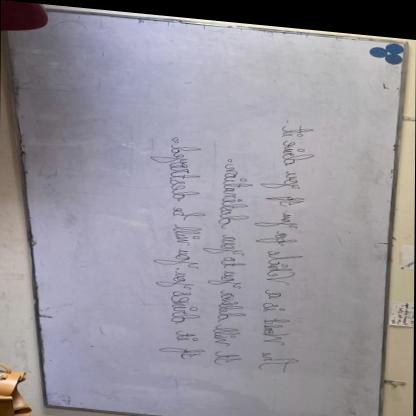Handwritten text: (251, 116, 319, 371), (147, 137, 210, 361), (204, 154, 251, 362)
Whiteboard: (0, 7, 404, 416)
